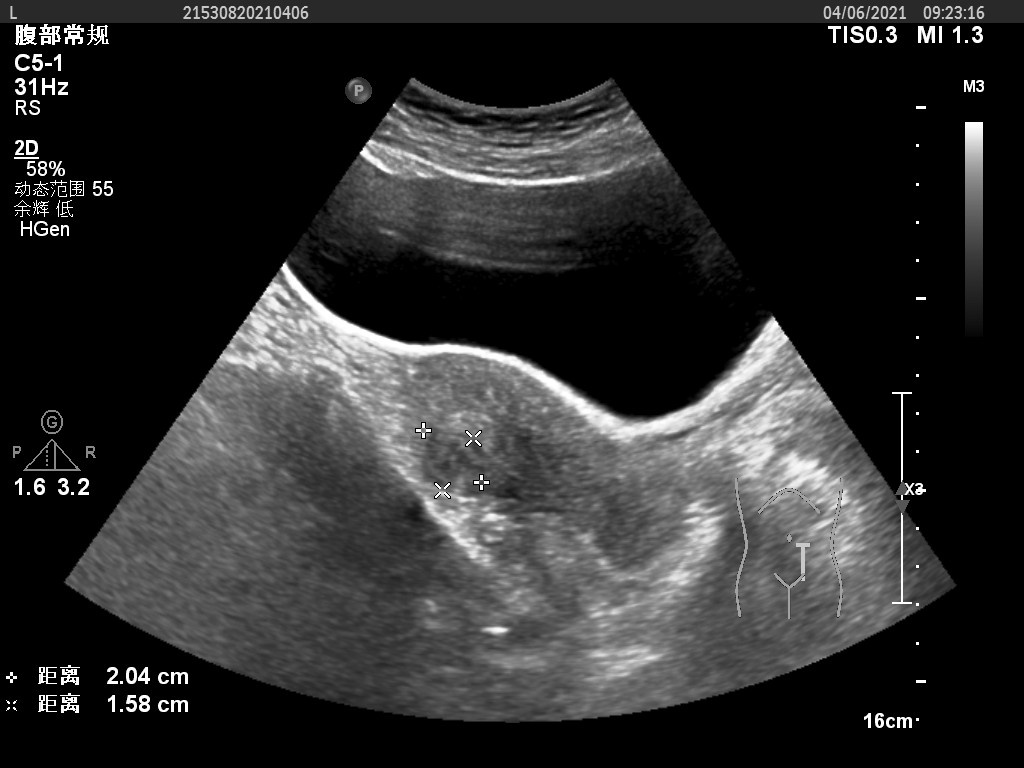肌瘤: (418, 430, 484, 492)
